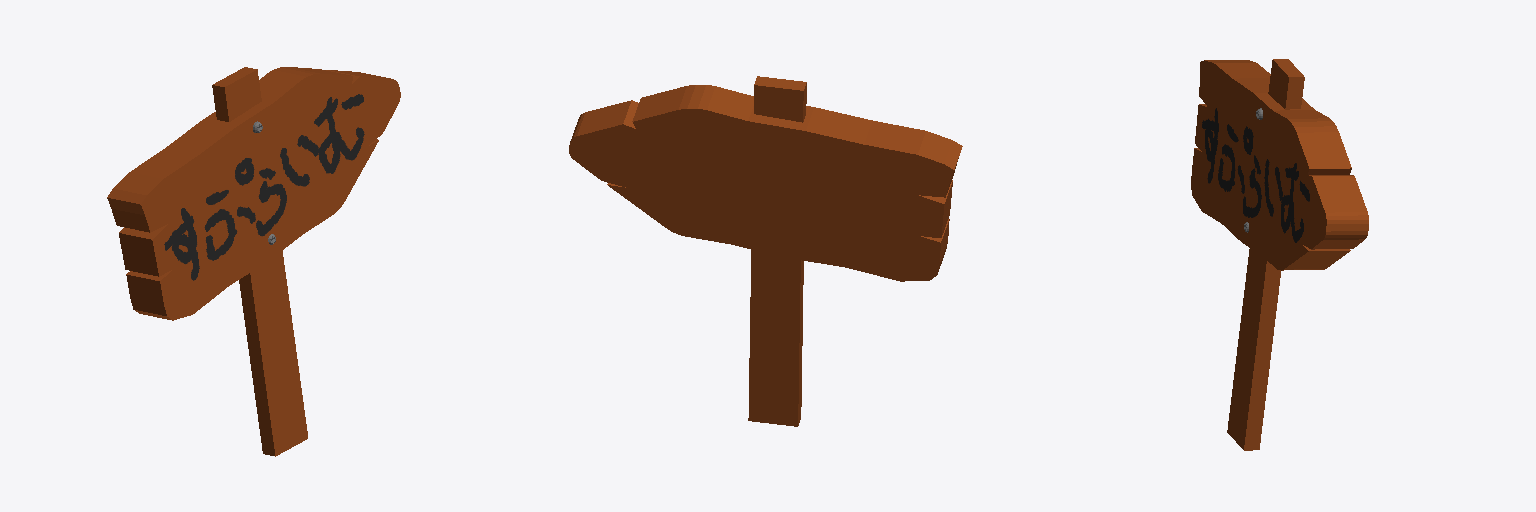
The picture shows the model from 3 angles: view 1: azimuth 30°, elevation 25°; view 2: azimuth 150°, elevation 25°; view 3: azimuth 270°, elevation 25°; orthographic projection.
Visible parts, largest first — view 1: 立方体; view 2: 立方体; view 3: 立方体.
Part boxes in pixels (x1,y1,x2,y2): 立方体: (107, 67, 400, 456); 立方体: (569, 76, 962, 426); 立方体: (1191, 59, 1368, 450).
Size of the model in its own units: 9.54 by 9.88 by 4.39.
1 materials, 1 textured.